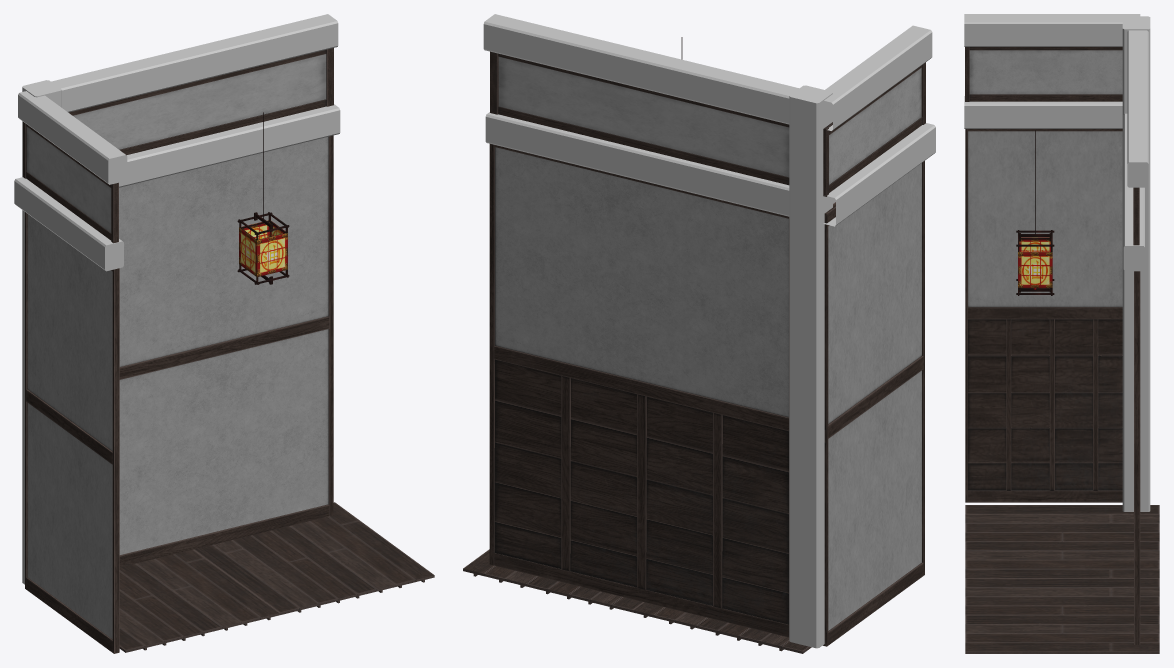
The model's file is 4F-2_Building.fbx.
The picture shows the model from 3 angles, left to right: view 1: azimuth 30°, elevation 25°; view 2: azimuth 150°, elevation 25°; view 3: azimuth 270°, elevation 25°; orthographic projection. The views are drawn at different scales.
Visible parts, largest first — view 1: _Combined Mesh [4F-2_Building]; view 2: _Combined Mesh [4F-2_Building]; view 3: _Combined Mesh [4F-2_Building].
Part boxes in pixels (x1=…): _Combined Mesh [4F-2_Building]: x1=14, y1=14, x2=434, y2=653; _Combined Mesh [4F-2_Building]: x1=463, y1=14, x2=935, y2=653; _Combined Mesh [4F-2_Building]: x1=964, y1=14, x2=1159, y2=653.
Size of the model in its own units: 2.29 by 3.33 by 1.21.
